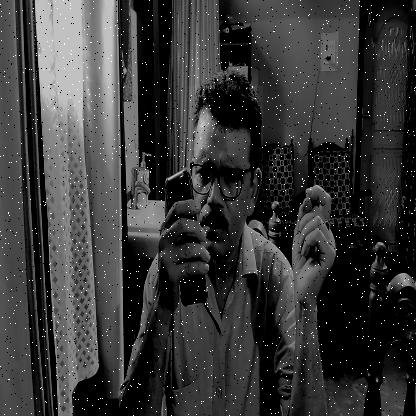Distracted: (187, 86, 263, 262)
